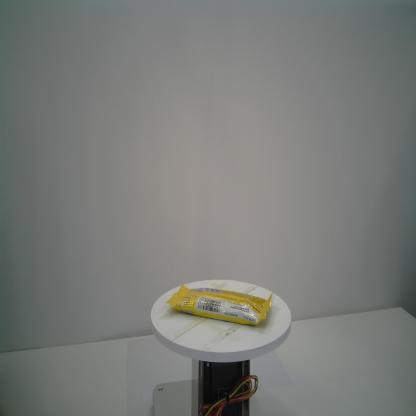Chocolate: (165, 284, 273, 326)
